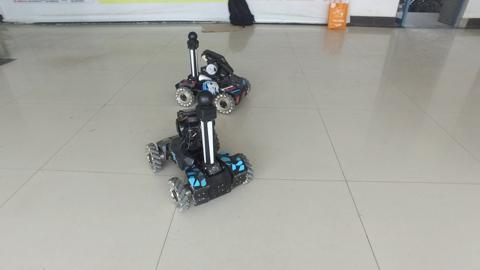chariot: (145, 115, 252, 217), (172, 31, 252, 115)
